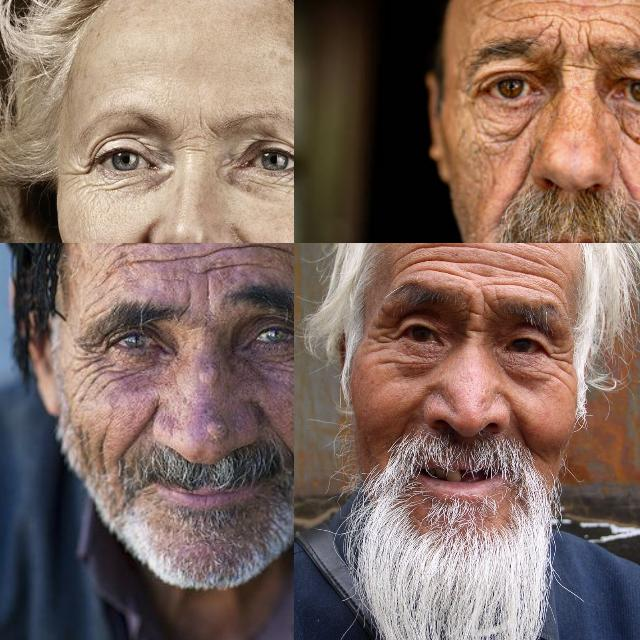crows_feet: (70, 340, 114, 378), (548, 340, 574, 394), (368, 324, 400, 364), (64, 158, 96, 195), (124, 223, 151, 243)
forehead: (538, 250, 576, 302), (480, 0, 547, 28), (489, 243, 531, 287), (220, 243, 287, 267), (448, 243, 482, 282), (156, 243, 205, 267), (397, 243, 437, 272), (606, 0, 640, 31), (105, 243, 140, 271), (560, 0, 596, 20)
frown_line: (173, 115, 217, 153), (556, 26, 596, 66), (195, 280, 219, 316)
gummy_smile: (124, 404, 156, 454), (508, 406, 534, 444), (393, 408, 417, 448), (516, 151, 534, 199), (279, 428, 294, 483), (615, 162, 635, 198), (232, 229, 281, 243)
